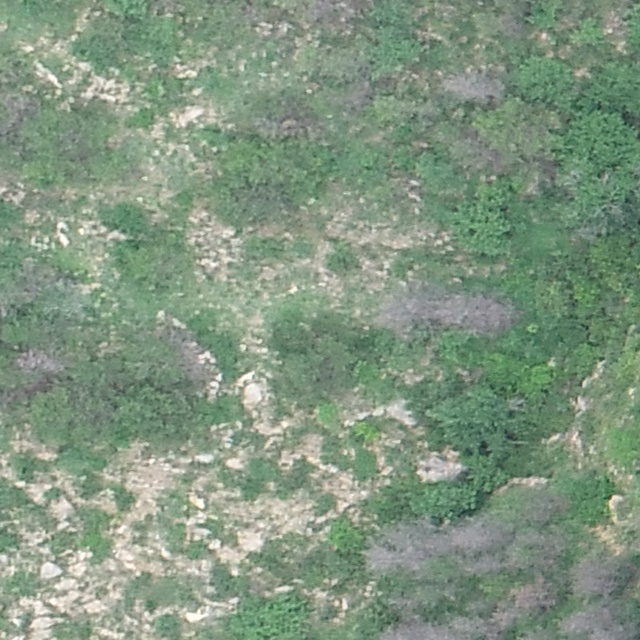unhealthy: (438, 289, 518, 338), (495, 576, 557, 628), (451, 128, 509, 178), (441, 66, 507, 106), (372, 292, 428, 338), (376, 520, 450, 554), (448, 514, 510, 553), (567, 555, 616, 597), (556, 601, 614, 635), (375, 618, 449, 640), (14, 345, 68, 375), (525, 491, 570, 525), (445, 615, 495, 639), (364, 541, 399, 574), (465, 554, 503, 577), (595, 619, 636, 640), (514, 627, 553, 640)
